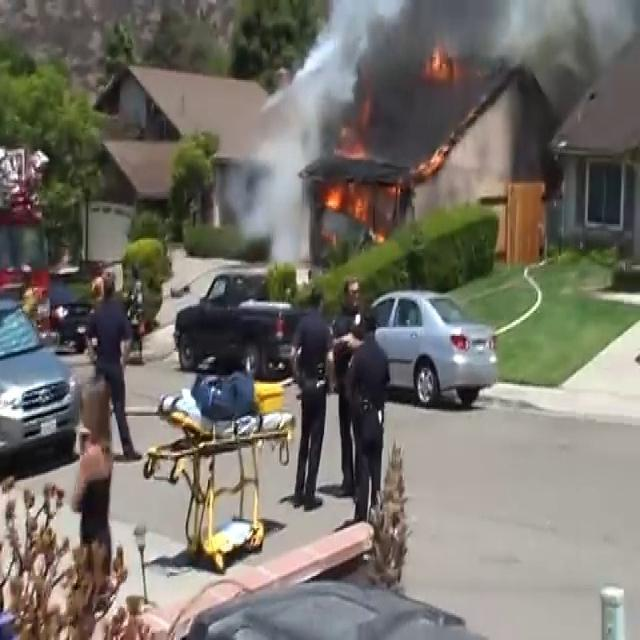Smoke: (286, 0, 638, 178)
